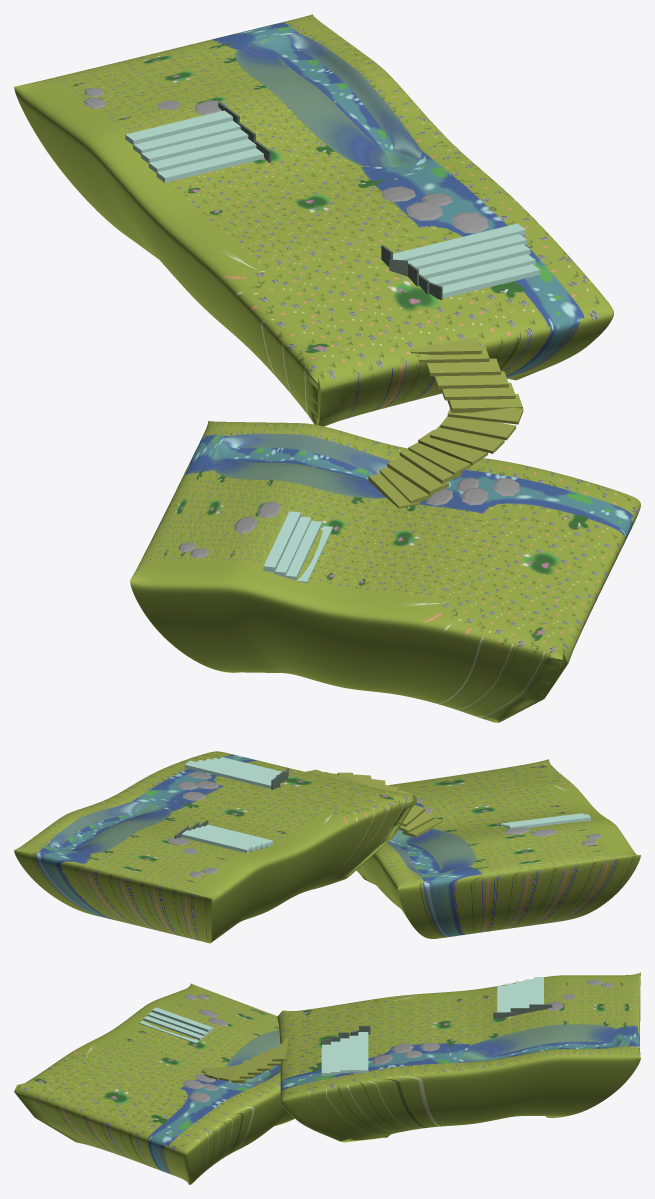
The model's file is env.fbx.
The picture shows the model from 3 angles, top to bottom: view 1: azimuth 30°, elevation 25°; view 2: azimuth 150°, elevation 25°; view 3: azimuth 270°, elevation 25°; orthographic projection. The views are drawn at different scales.
Parts seen in each view (by area): view 1: Plane.003, Plane.007, Plane.001, Plane.019, Plane.014, Plane.025; view 2: Plane.003, Plane.007, Plane.001, Plane.019, Plane.014, Plane.025; view 3: Plane.003, Plane.007, Plane.019, Plane.001, Plane.014, Plane.025.
Part boxes in pixels (<box>): Plane.003: <box>14,14,613,426</box>; Plane.007: <box>130,421,640,722</box>; Plane.001: <box>368,337,523,508</box>; Plane.019: <box>393,223,540,298</box>; Plane.014: <box>125,110,263,182</box>; Plane.025: <box>263,511,332,583</box>; Plane.003: <box>14,751,416,943</box>; Plane.007: <box>356,759,640,938</box>; Plane.001: <box>305,769,442,837</box>; Plane.019: <box>184,757,281,788</box>; Plane.014: <box>181,824,273,853</box>; Plane.025: <box>500,813,590,829</box>; Plane.003: <box>277,972,640,1142</box>; Plane.007: <box>14,983,294,1184</box>; Plane.019: <box>321,1032,368,1075</box>; Plane.001: <box>203,1039,288,1082</box>; Plane.014: <box>497,977,543,1012</box>; Plane.025: <box>139,1007,212,1043</box>.
Size of the model in its own units: 3335 by 1725 by 5441.
